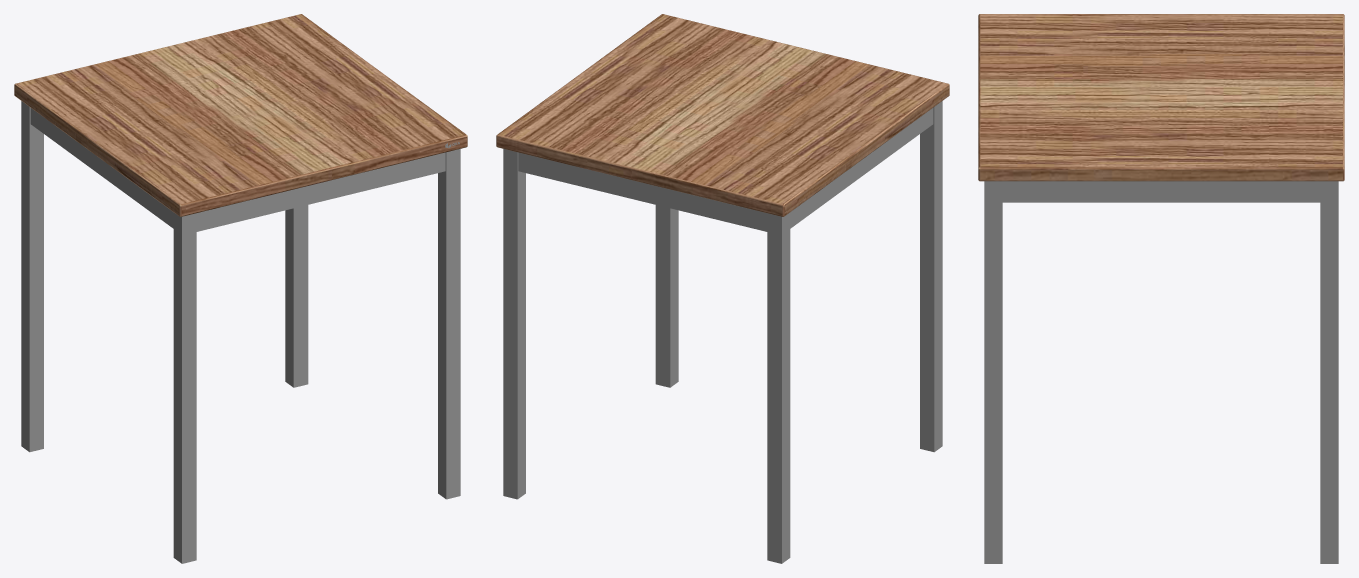
The model's file is conference_60x60_Fin.fbx.
The picture shows the model from 3 angles, left to right: view 1: azimuth 30°, elevation 25°; view 2: azimuth 150°, elevation 25°; view 3: azimuth 270°, elevation 25°; orthographic projection. The views are drawn at different scales.
Visible parts, largest first — view 1: drewno_mesh, metal_mesh; view 2: drewno_mesh, metal_mesh; view 3: drewno_mesh, metal_mesh.
Part boxes in pixels (box(x1,y1,x2,y2)): drewno_mesh: box(14, 14, 467, 216); metal_mesh: box(21, 101, 460, 558); drewno_mesh: box(496, 14, 949, 216); metal_mesh: box(503, 101, 942, 558); drewno_mesh: box(978, 14, 1344, 181); metal_mesh: box(984, 181, 1338, 558).
Bounding box in the file's own units: 60 × 72 × 60.01.
